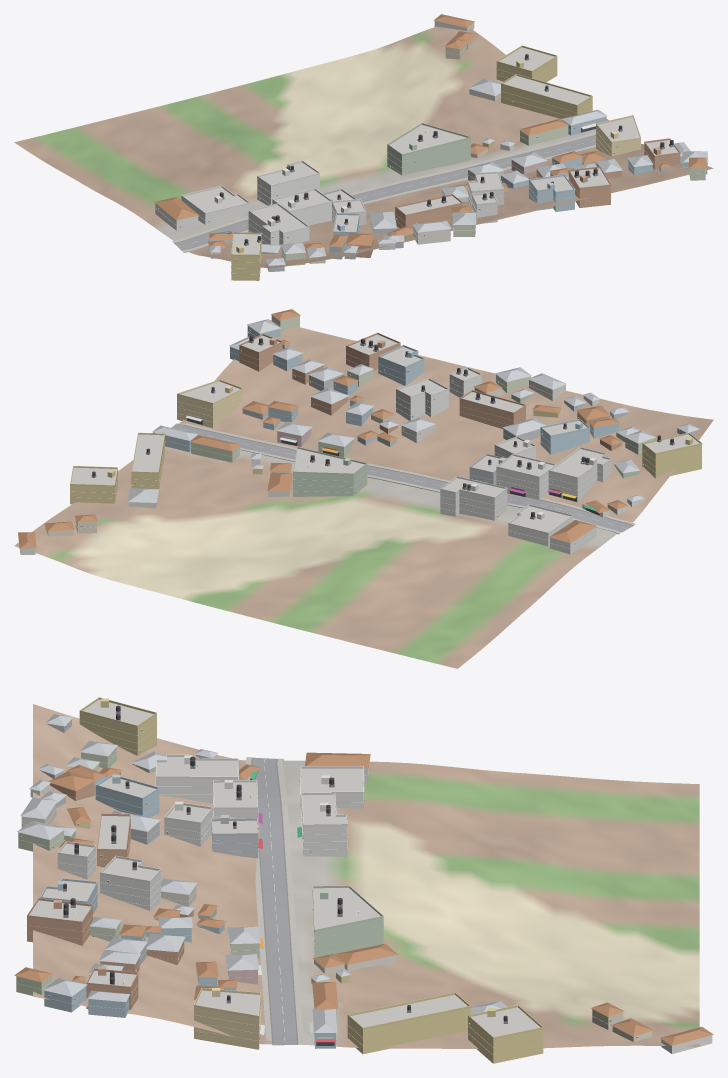
3 renders of one model, top to bottom at view 1: azimuth 30°, elevation 25°; view 2: azimuth 150°, elevation 25°; view 3: azimuth 270°, elevation 25°, orthographic. The views are drawn at different scales.
Parts seen in each view (by area): view 1: Terrain-col, Buildings-col, Details, Roads-col, Sidewalks-col; view 2: Terrain-col, Buildings-col, Details, Roads-col, Sidewalks-col; view 3: Terrain-col, Buildings-col, Details, Roads-col, Sidewalks-col.
Part boxes in pixels (bbox=[...]): Terrain-col: bbox=[14, 26, 713, 268]; Buildings-col: bbox=[154, 14, 708, 280]; Details: bbox=[155, 45, 707, 274]; Roads-col: bbox=[174, 135, 595, 250]; Sidewalks-col: bbox=[172, 132, 595, 252]; Terrain-col: bbox=[14, 320, 713, 668]; Buildings-col: bbox=[18, 309, 701, 554]; Details: bbox=[45, 320, 702, 548]; Roads-col: bbox=[171, 423, 633, 532]; Sidewalks-col: bbox=[184, 423, 635, 534]; Terrain-col: bbox=[33, 704, 699, 1048]; Buildings-col: bbox=[14, 699, 713, 1063]; Details: bbox=[16, 697, 638, 1055]; Roads-col: bbox=[251, 757, 298, 1045]; Sidewalks-col: bbox=[245, 757, 303, 1040].
Size of the model in its own units: 276 by 38.12 by 269.
